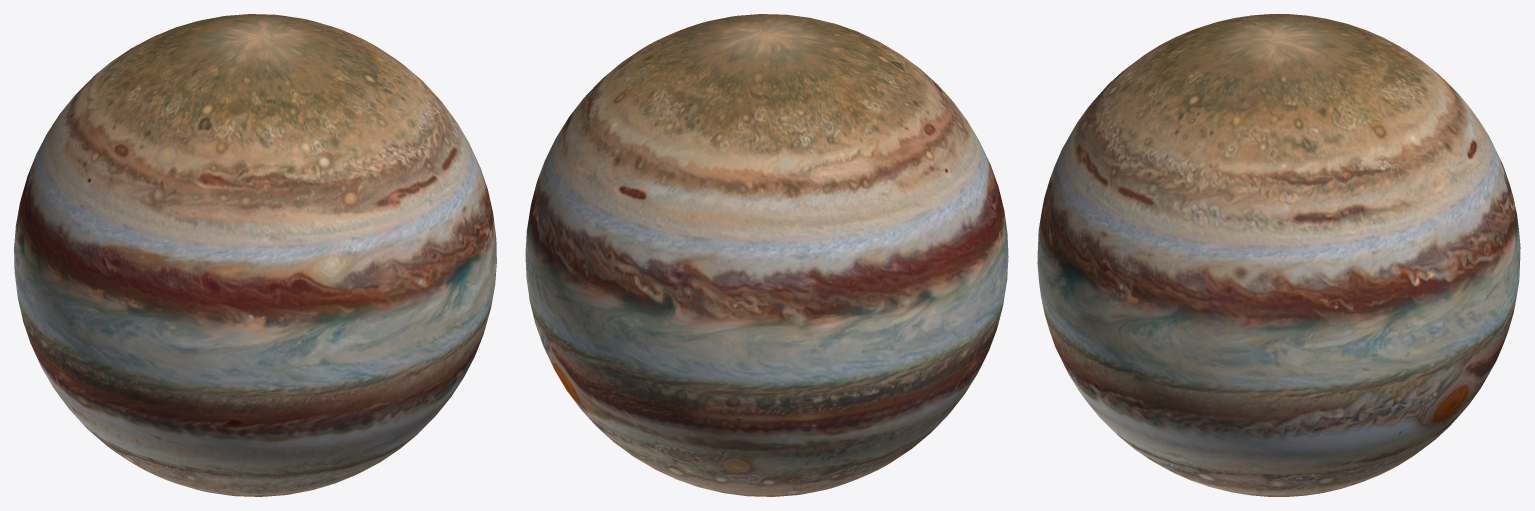
File: jupiter.glb
3 views of the same model, side by side, from view 1: azimuth 30°, elevation 25°; view 2: azimuth 150°, elevation 25°; view 3: azimuth 270°, elevation 25° (orthographic).
Visible parts, largest first — view 1: core; view 2: core; view 3: core.
Part boxes in pixels (box(x1,y1,x2,y2)): core: box(14, 14, 496, 496); core: box(525, 14, 1008, 496); core: box(1037, 14, 1520, 496).
Size of the model in its own units: 2 by 2 by 2.
Materials: 1 (1 with a texture image).
